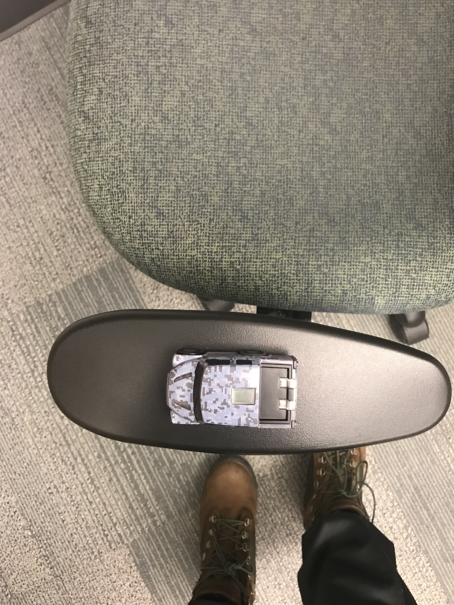MXT: (162, 349, 299, 433)
